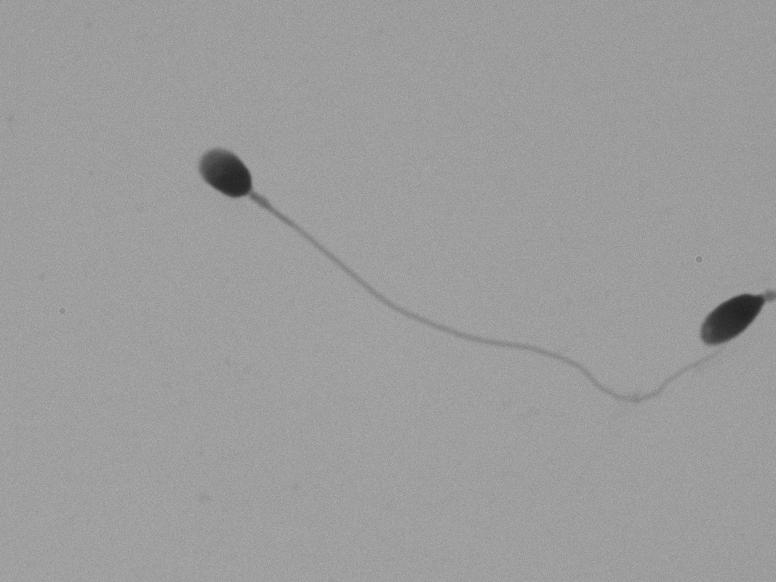Abnormal: (694, 203, 772, 417)
Normal: (129, 123, 680, 447)
